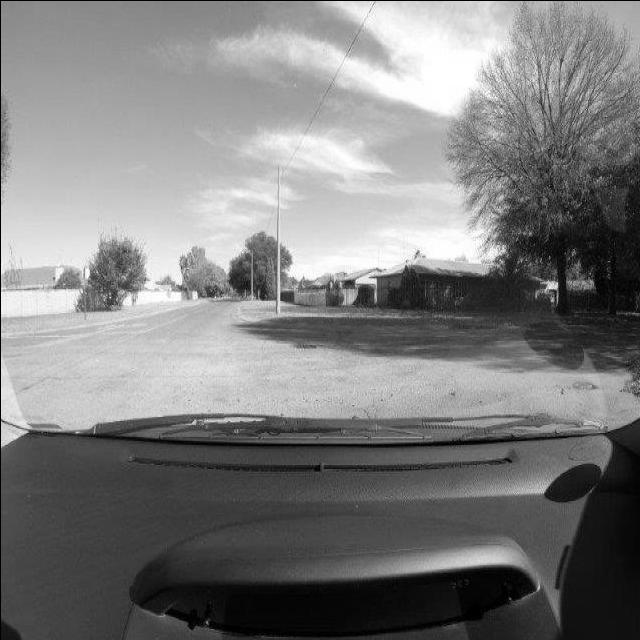lubang: (293, 336, 320, 352)
